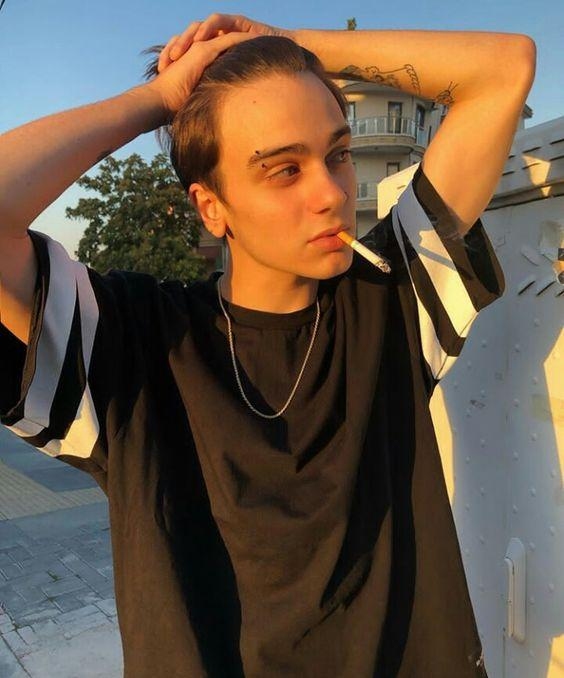cigarette: (335, 230, 391, 274)
